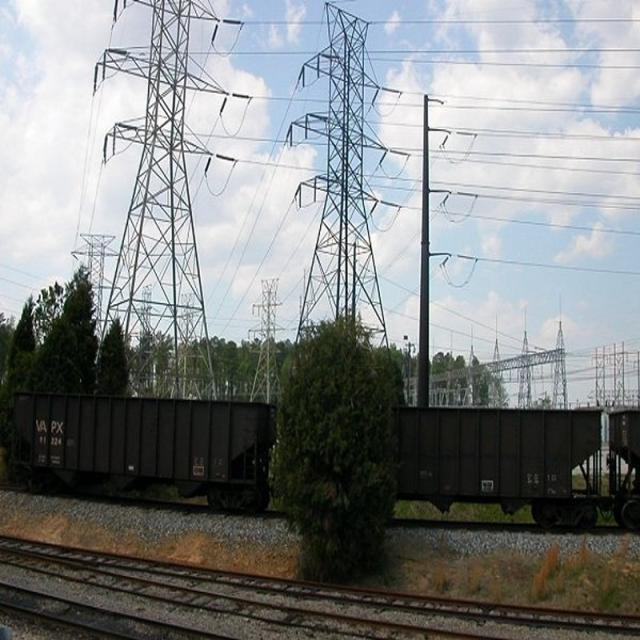non-critical vegetation: (90, 2, 238, 410), (286, 6, 412, 407)
